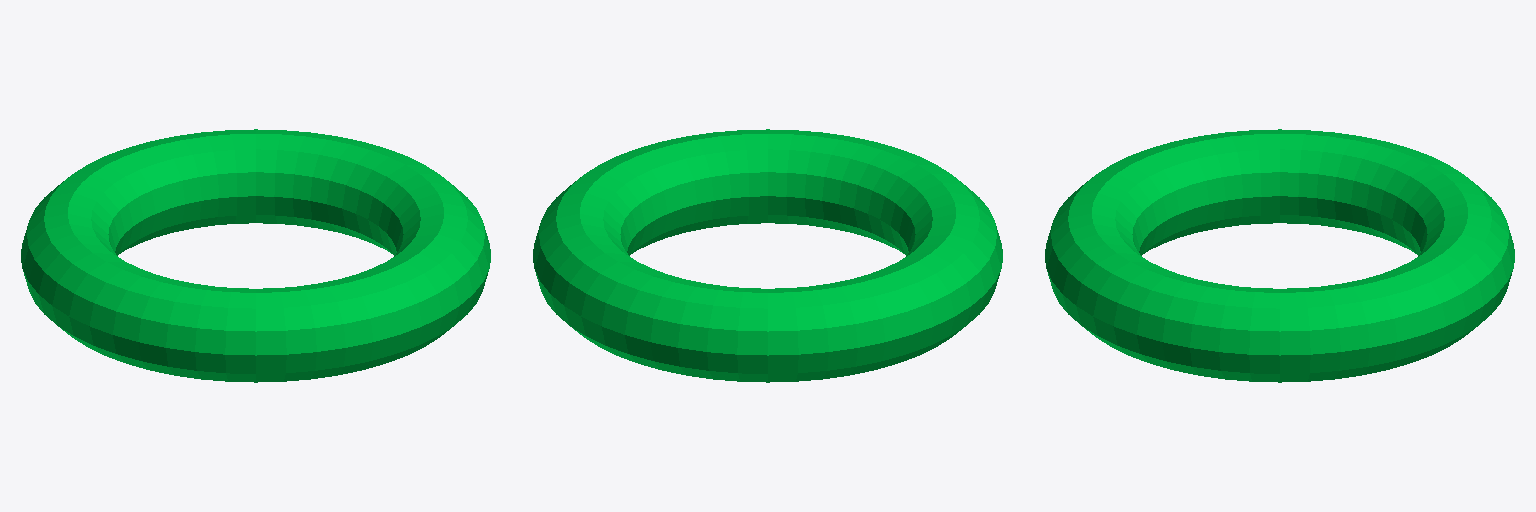
Rendered from purple_donut.obj.
3 renders of one model, left to right at view 1: azimuth 30°, elevation 25°; view 2: azimuth 150°, elevation 25°; view 3: azimuth 270°, elevation 25°, orthographic.
Visible parts, largest first — view 1: Torus; view 2: Torus; view 3: Torus.
Boxes of the visible parts, x1,y1,x2,y2 form: Torus: [21, 129, 490, 382]; Torus: [533, 129, 1002, 382]; Torus: [1045, 129, 1514, 382].
Bounding box in the file's own units: 2.5 × 0.5 × 2.5.